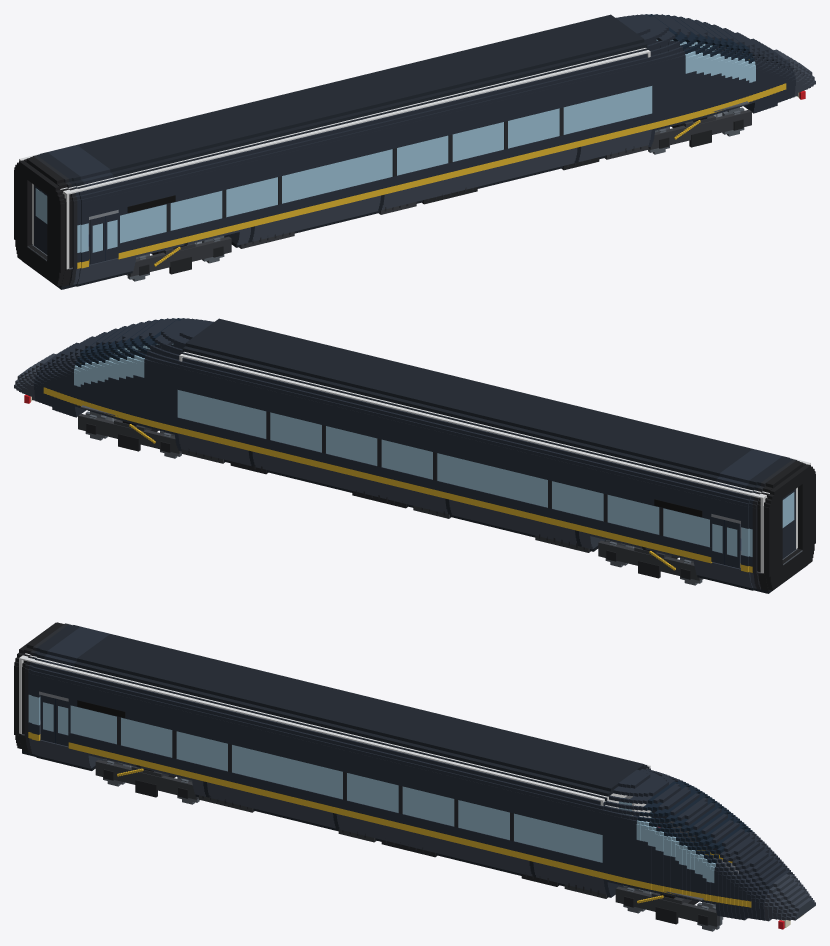
Rendered from e320_front.obj.
3 views of the same model, one above another, from view 1: azimuth 30°, elevation 25°; view 2: azimuth 150°, elevation 25°; view 3: azimuth 330°, elevation 25° (orthographic).
Visible parts, largest first — view 1: SHELL, SHELL_diaphragm, SHELL_ceiling, BOGEY_FRONT, BOGEY_REAR, FRAME, CONNECTING_DOOR_1_CG_CR_TOGGLE_TL_0.98_Z, EXTERNAL_DOOR_3_CG_DR1_TOGGLE_TL_-0.44_X, EXTERNAL_DOOR_4_CG_DR1_TOGGLE_TL_0.44_X; view 2: SHELL, SHELL_diaphragm, SHELL_ceiling, BOGEY_FRONT, BOGEY_REAR, FRAME, CONNECTING_DOOR_1_CG_CR_TOGGLE_TL_0.98_Z, EXTERNAL_DOOR_6_CG_DL1_TOGGLE_TL_-0.44_X, EXTERNAL_DOOR_7_CG_DL1_TOGGLE_TL_0.44_X; view 3: SHELL, SHELL_ceiling, BOGEY_FRONT, BOGEY_REAR, FRAME, EXTERNAL_DOOR_3_CG_DR1_TOGGLE_TL_-0.44_X, EXTERNAL_DOOR_4_CG_DR1_TOGGLE_TL_0.44_X.
Part boxes in pixels (x1,y1,x2,y2): SHELL: (22, 14, 815, 289); SHELL_diaphragm: (14, 160, 64, 286); SHELL_ceiling: (21, 23, 648, 194); BOGEY_FRONT: (648, 109, 751, 149); BOGEY_REAR: (128, 236, 231, 276); FRAME: (239, 145, 648, 248); CONNECTING_DOOR_1_CG_CR_TOGGLE_TL_0.98_Z: (34, 185, 47, 254); EXTERNAL_DOOR_3_CG_DR1_TOGGLE_TL_-0.44_X: (89, 216, 105, 264); EXTERNAL_DOOR_4_CG_DR1_TOGGLE_TL_0.44_X: (105, 213, 119, 260); SHELL: (14, 318, 807, 593); SHELL_diaphragm: (765, 464, 815, 590); SHELL_ceiling: (181, 327, 808, 498); BOGEY_FRONT: (78, 413, 181, 453); BOGEY_REAR: (598, 540, 701, 580); FRAME: (181, 448, 590, 552); CONNECTING_DOOR_1_CG_CR_TOGGLE_TL_0.98_Z: (782, 489, 795, 558); EXTERNAL_DOOR_6_CG_DL1_TOGGLE_TL_-0.44_X: (724, 520, 740, 568); EXTERNAL_DOOR_7_CG_DL1_TOGGLE_TL_0.44_X: (710, 517, 724, 564); SHELL: (18, 622, 815, 921); SHELL_ceiling: (21, 623, 647, 800); BOGEY_FRONT: (615, 886, 719, 926); BOGEY_REAR: (95, 759, 198, 799); FRAME: (199, 795, 607, 898); EXTERNAL_DOOR_3_CG_DR1_TOGGLE_TL_-0.44_X: (40, 695, 55, 743); EXTERNAL_DOOR_4_CG_DR1_TOGGLE_TL_0.44_X: (56, 698, 70, 746).
Size of the model in its own units: 25.86 by 3.9 by 2.94.
1 material, 1 textured.
